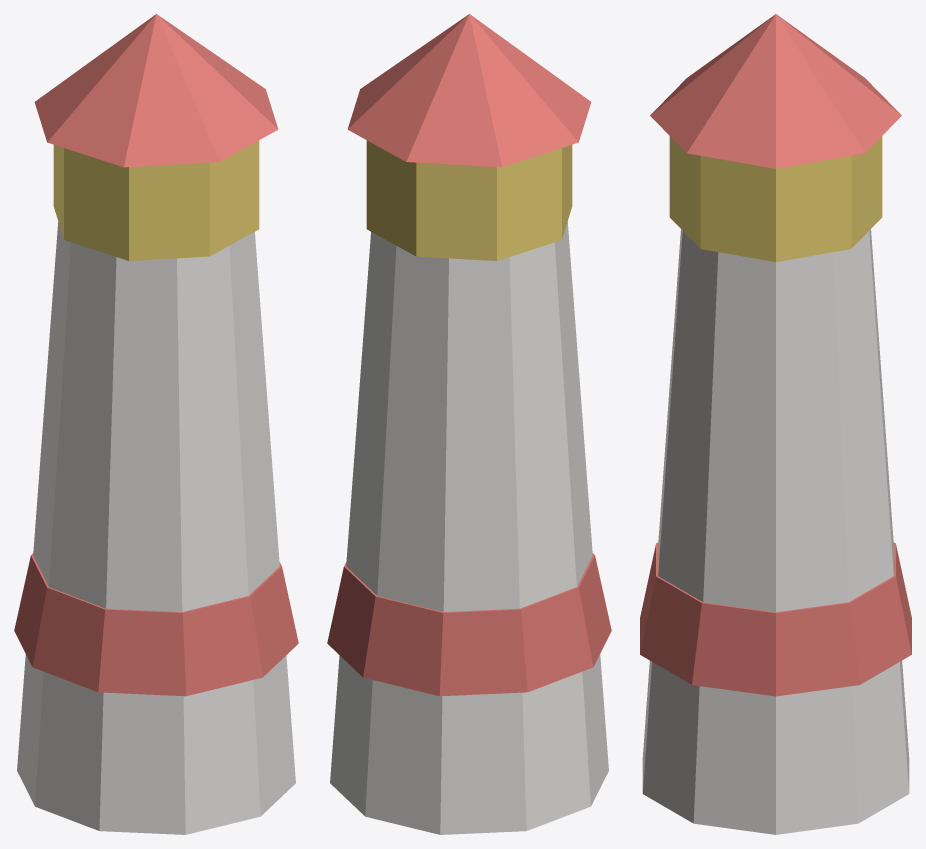
The model's file is faro.glb.
3 views of the same model, side by side, from view 1: azimuth 30°, elevation 25°; view 2: azimuth 150°, elevation 25°; view 3: azimuth 270°, elevation 25° (orthographic).
Parts seen in each view (by area): view 1: faro; view 2: faro; view 3: faro.
Boxes of the visible parts, bbox=[...] form: faro: bbox=[14, 14, 298, 834]; faro: bbox=[327, 14, 611, 834]; faro: bbox=[640, 14, 911, 834].
Size of the model in its own units: 1.02 by 3 by 0.9701.
